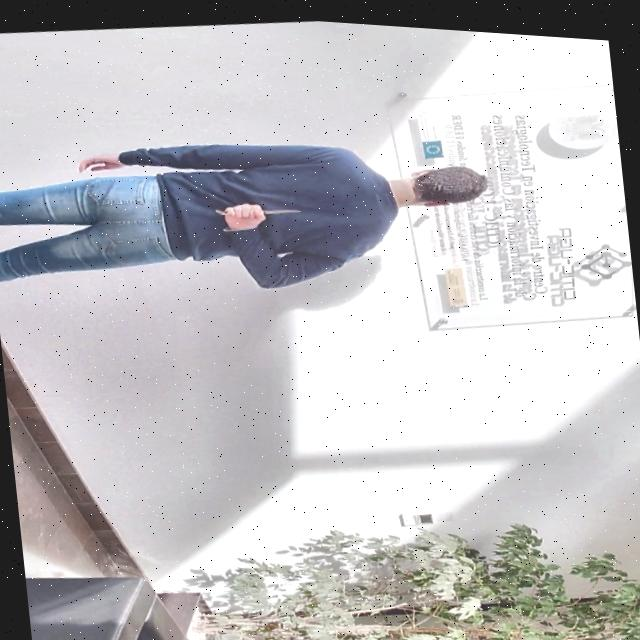knife: (262, 196, 310, 217)
